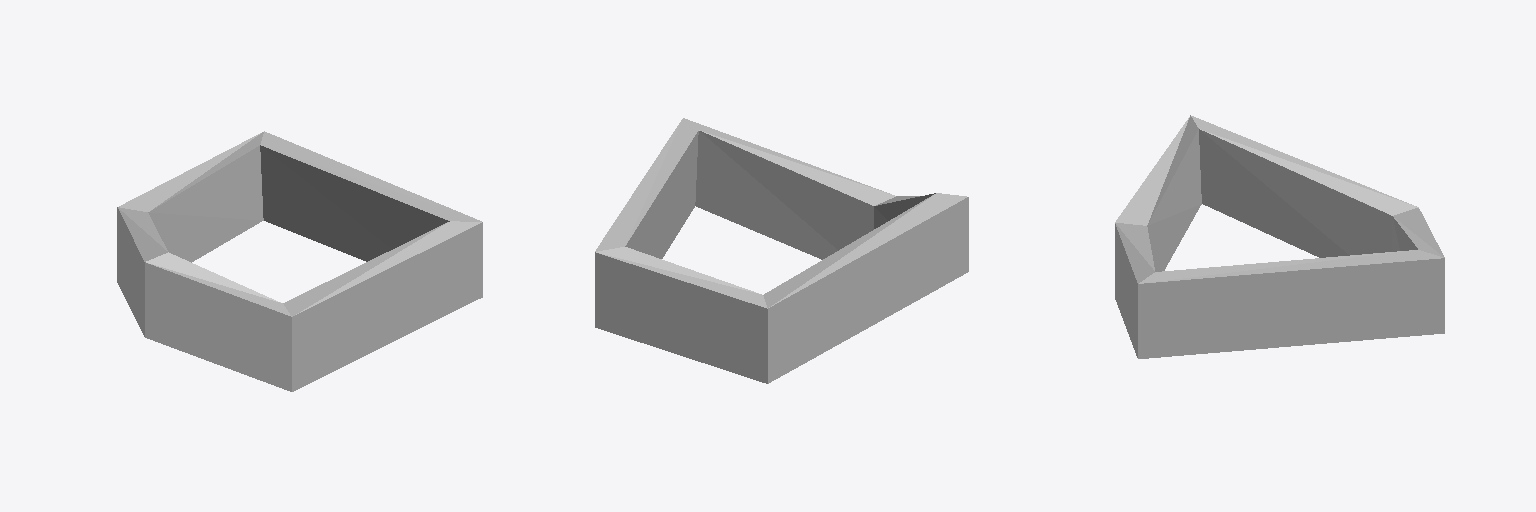
Rendered from gate10.obj.
3 renders of one model, left to right at view 1: azimuth 30°, elevation 25°; view 2: azimuth 150°, elevation 25°; view 3: azimuth 270°, elevation 25°, orthographic.
Parts seen in each view (by area): view 1: Cylinder; view 2: Cylinder; view 3: Cylinder.
Part boxes in pixels (bbox=[...]): Cylinder: bbox=[117, 131, 482, 391]; Cylinder: bbox=[595, 118, 968, 383]; Cylinder: bbox=[1115, 115, 1444, 358].
Bounding box in the file's own units: 2.17 × 0.8572 × 1.98.